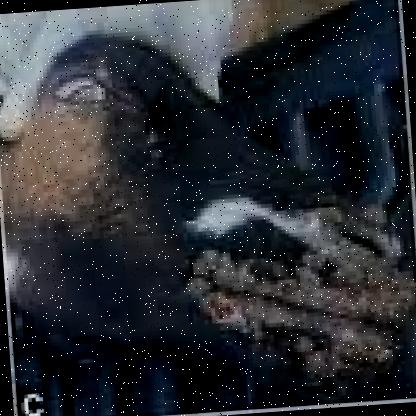ppr: (185, 232, 416, 389)
